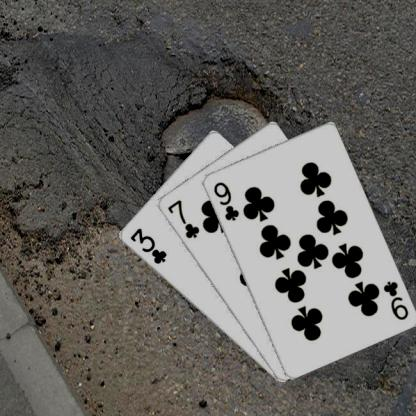3C: (127, 225, 168, 266)
7C: (164, 196, 200, 240)
9C: (380, 278, 410, 321), (211, 179, 240, 222)
